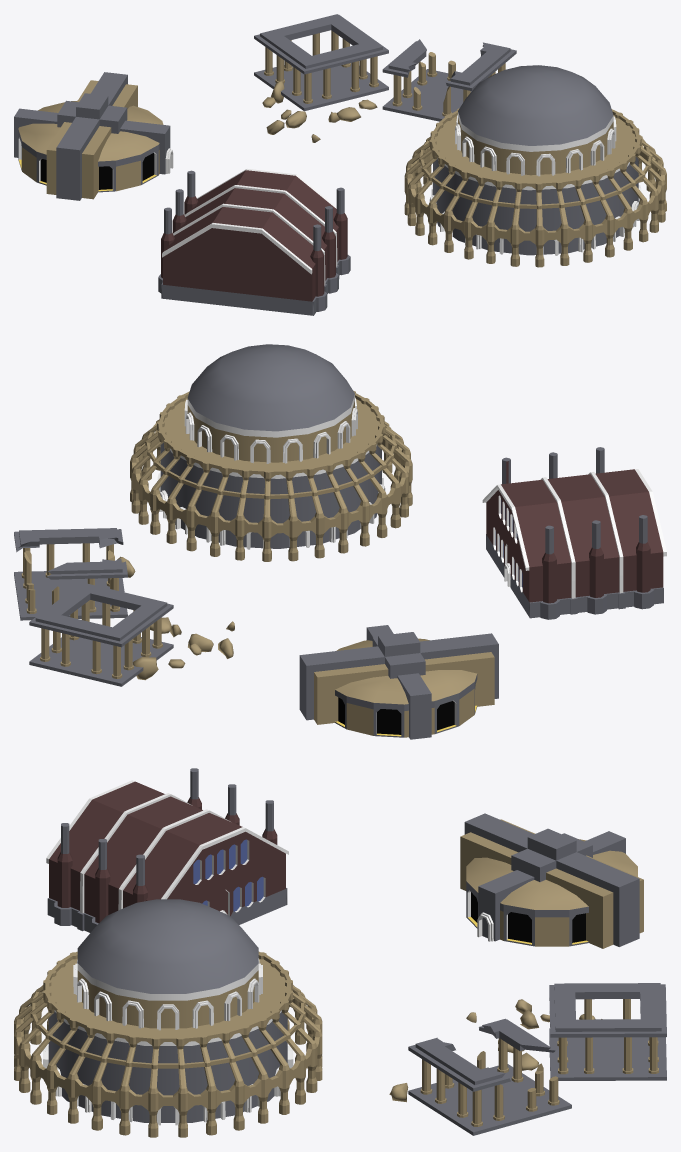
The model's file is Open World.fbx.
3 renders of one model, top to bottom at view 1: azimuth 30°, elevation 25°; view 2: azimuth 150°, elevation 25°; view 3: azimuth 270°, elevation 25°, orthographic. The views are drawn at different scales.
Parts seen in each view (by area): view 1: Inner_Dome, MainBuilding, Lattice, Building_Frame, Wont32, Won33, Building; view 2: Inner_Dome, MainBuilding, Lattice, Building_Frame, Wont32, Building, Won33; view 3: Inner_Dome, MainBuilding, Lattice, Building_Frame, Wont32, Won33, Building.
Part boxes in pixels (left/top/right/bottom): Inner_Dome: left=433, top=65, right=638, bottom=255; MainBuilding: left=158, top=168, right=350, bottom=315; Lattice: left=404, top=108, right=666, bottom=267; Building_Frame: left=14, top=72, right=170, bottom=200; Wont32: left=254, top=14, right=388, bottom=111; Won33: left=382, top=39, right=516, bottom=121; Building: left=18, top=100, right=163, bottom=192; Inner_Dome: left=160, top=344, right=381, bottom=548; MainBuilding: left=482, top=447, right=666, bottom=619; Lattice: left=130, top=390, right=412, bottom=561; Building_Frame: left=299, top=625, right=498, bottom=739; Wont32: left=29, top=582, right=173, bottom=686; Building: left=335, top=638, right=477, bottom=737; Won33: left=14, top=528, right=127, bottom=620; Inner_Dome: left=48, top=899, right=287, bottom=1122; MainBuilding: left=46, top=768, right=288, bottom=932; Lattice: left=14, top=951, right=322, bottom=1137; Building_Frame: left=460, top=813, right=643, bottom=948; Wont32: left=549, top=983, right=666, bottom=1080; Won33: left=408, top=1018, right=571, bottom=1135; Building: left=466, top=839, right=637, bottom=946.
Size of the model in its own units: 69.29 by 20.32 by 68.53.
